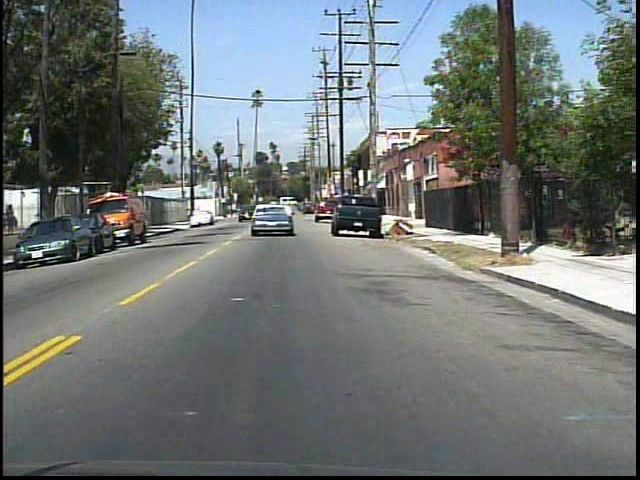person: (4, 203, 19, 236)
